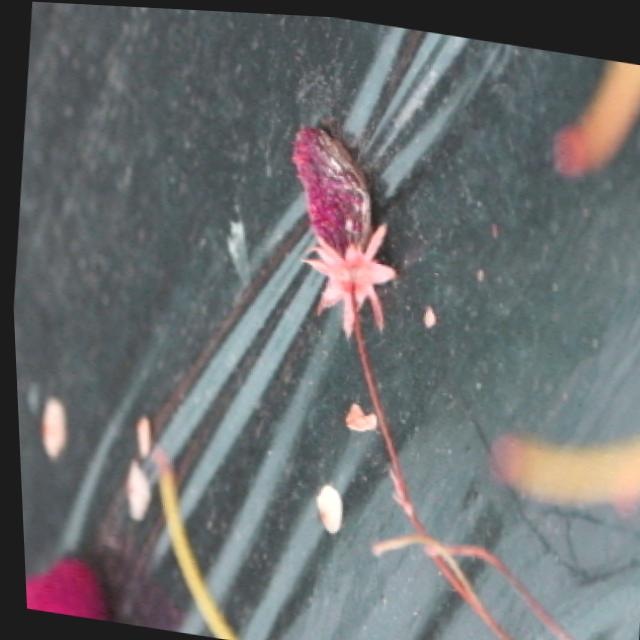Gray Mold: (289, 122, 394, 334)
